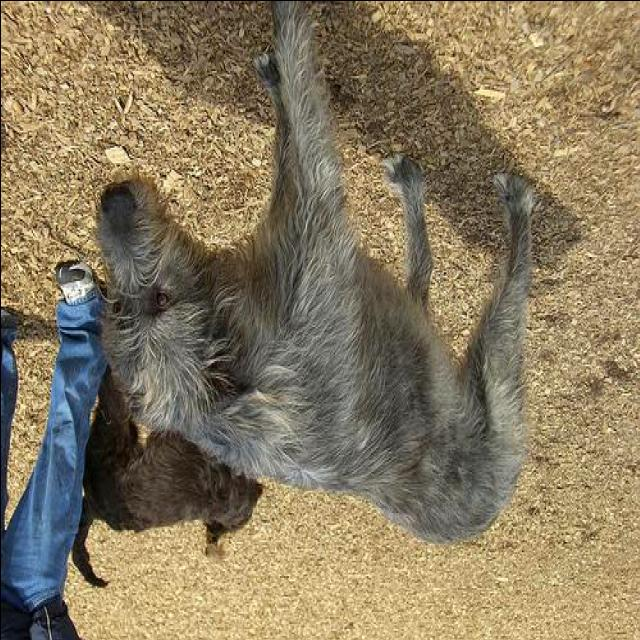irish_wolfhound: (87, 2, 540, 558)
